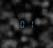one: (26, 20, 32, 28)
zero: (19, 20, 25, 28)
